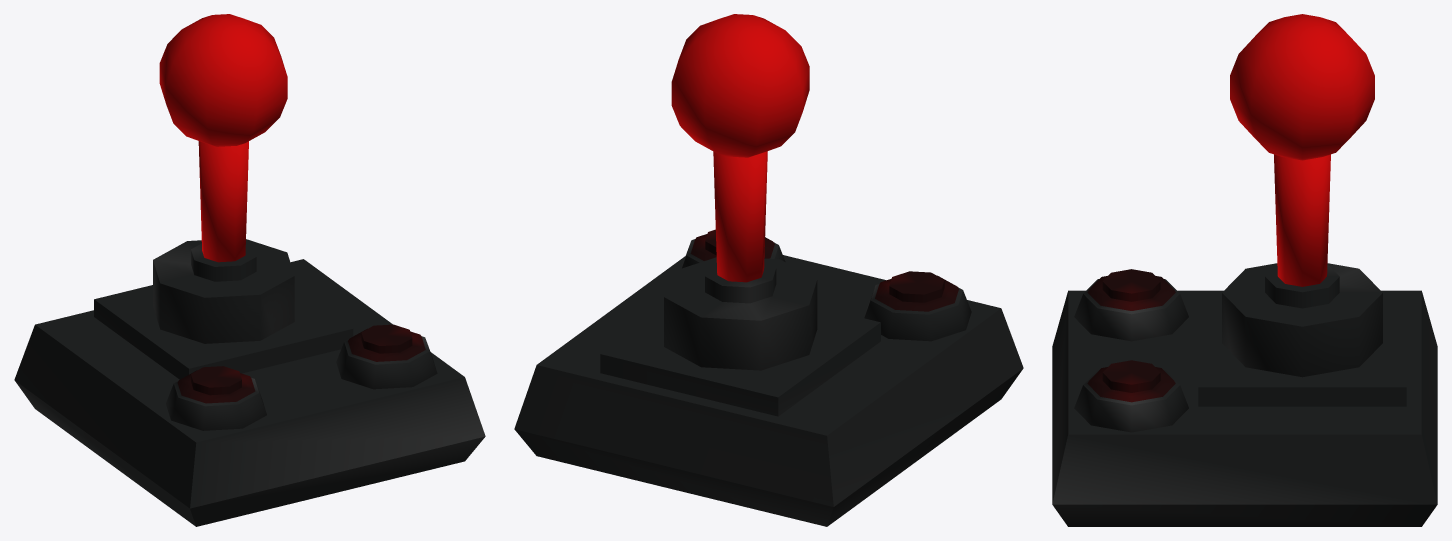
The model's file is Joystick.fbx.
3 views of the same model, side by side, from view 1: azimuth 30°, elevation 25°; view 2: azimuth 150°, elevation 25°; view 3: azimuth 270°, elevation 25° (orthographic). The views are drawn at different scales.
Parts seen in each view (by area): view 1: Joystick; view 2: Joystick; view 3: Joystick.
Part boxes in pixels (x1,y1,x2,y2): Joystick: (14,14,485,526); Joystick: (514,14,1023,526); Joystick: (1052,14,1437,526).
Bounding box in the file's own units: 5.47 × 7.01 × 5.63.
